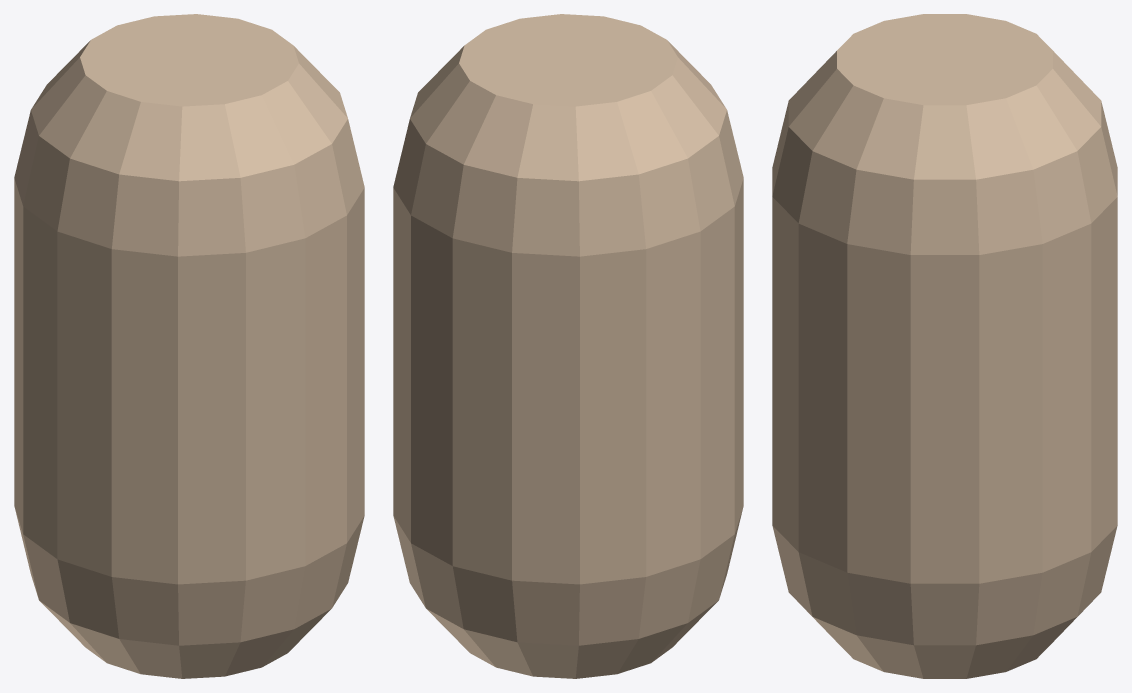
The model's file is mira_crew_s1_1_collider.obj.
The picture shows the model from 3 angles, left to right: view 1: azimuth 30°, elevation 25°; view 2: azimuth 150°, elevation 25°; view 3: azimuth 270°, elevation 25°; orthographic projection.
Parts seen in each view (by area): view 1: collider; view 2: collider; view 3: collider.
Boxes of the visible parts, x1,y1,x2,y2 form: collider: (14, 14, 364, 678); collider: (393, 14, 743, 678); collider: (772, 14, 1117, 678).
Size of the model in its own units: 1.5 by 2.75 by 1.5.
